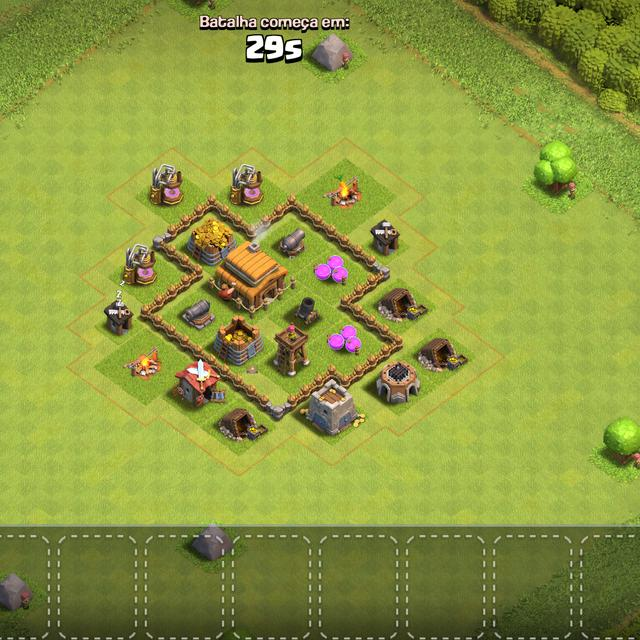Arqueira: (272, 322, 311, 377)
Canhao: (181, 298, 218, 332), (276, 228, 310, 258)
